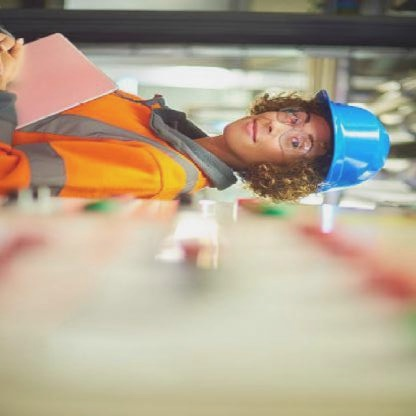blue: (306, 81, 397, 202)
vest: (0, 53, 216, 202)
